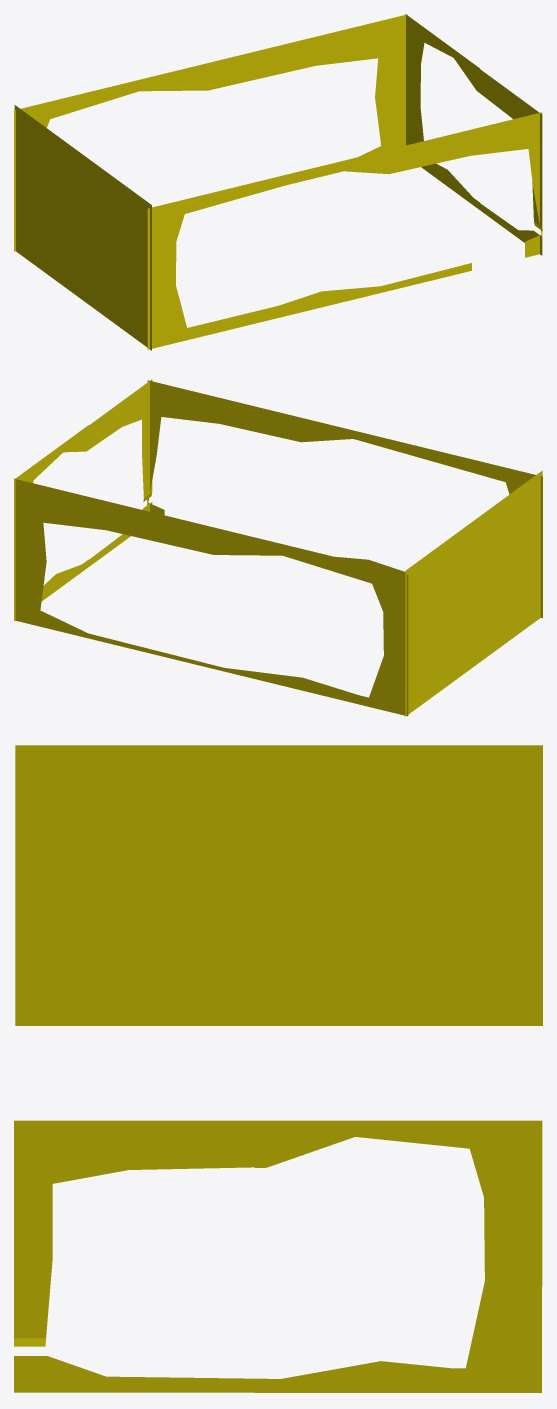
File: BH05B_WP_07_Break.fbx
3 renders of one model, top to bottom at view 1: azimuth 30°, elevation 25°; view 2: azimuth 150°, elevation 25°; view 3: azimuth 270°, elevation 25°, orthographic. The views are drawn at different scales.
Visible parts, largest first — view 1: BH05B_WP_07_Break; view 2: BH05B_WP_07_Break; view 3: BH05B_WP_07_Break.
Boxes of the visible parts, x1,y1,x2,y2 form: BH05B_WP_07_Break: (14,14,542,350); BH05B_WP_07_Break: (14,379,542,716); BH05B_WP_07_Break: (14,745,542,1392).
Bounding box in the file's own units: 858 × 303 × 517.
